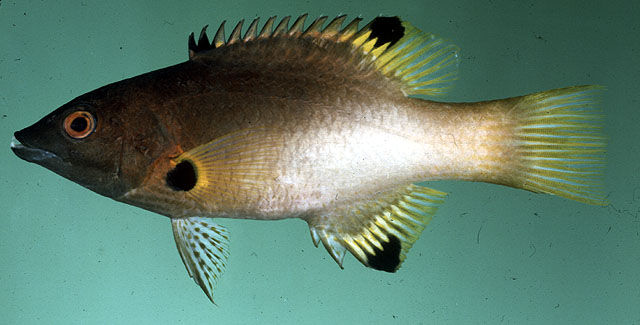fish: (10, 13, 614, 305)
